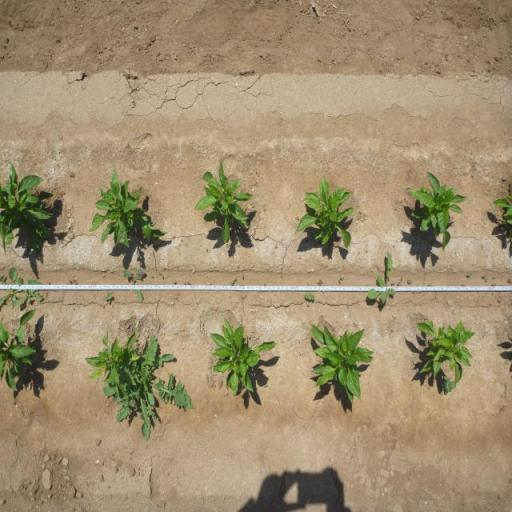plant: (87, 167, 168, 251), (306, 318, 373, 408), (210, 314, 278, 399), (0, 155, 55, 258), (192, 157, 254, 246), (406, 168, 468, 256), (293, 173, 358, 253), (413, 314, 478, 380), (82, 325, 139, 383), (0, 307, 37, 394)
weed: (100, 336, 195, 445), (364, 248, 398, 306), (0, 267, 21, 307), (18, 276, 46, 305), (123, 267, 145, 302), (439, 374, 455, 395), (103, 292, 114, 306), (302, 292, 316, 302), (66, 278, 78, 284), (230, 278, 237, 286), (338, 276, 344, 284), (483, 274, 489, 282), (318, 278, 322, 286), (406, 280, 412, 285), (466, 272, 472, 277)
